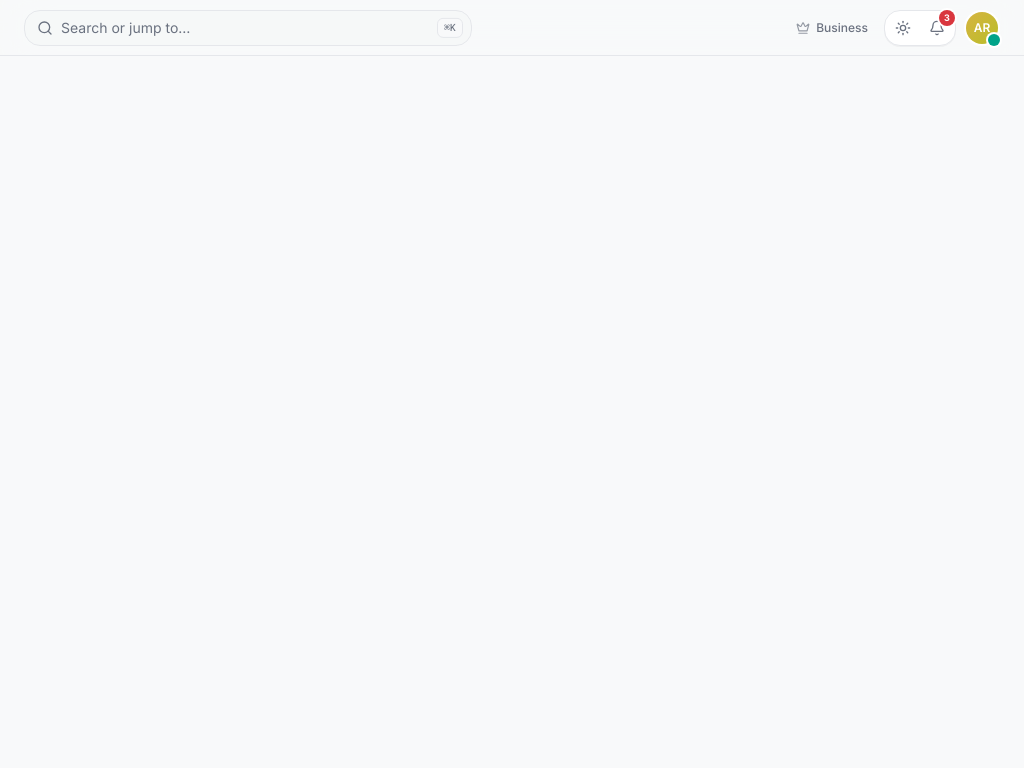
Test: Topbar notifications › shows the workspace feed with an unread badge that matches the data
Click the button named "Notifications" at (937, 28), box [921, 12, 953, 44]
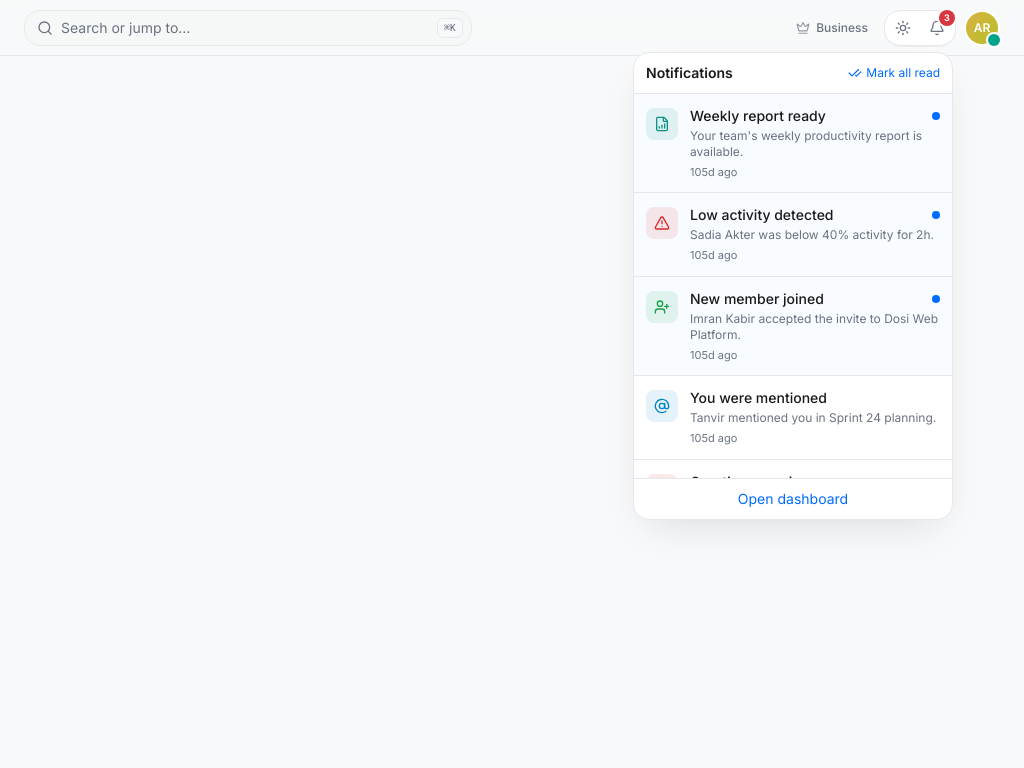
Result: the text "Weekly report ready" is shown at [690, 106, 826, 126]
Result: the text "Low activity detected" is shown at [690, 205, 834, 225]
Result: the text "New member joined" is shown at [690, 288, 824, 308]
